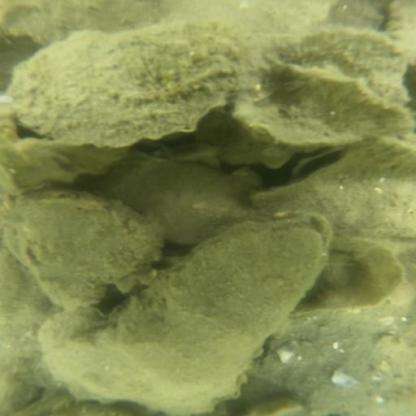Oyster- Indeterminate: (87, 216, 338, 409)
Oyster-Closed: (0, 18, 303, 153), (36, 306, 220, 416), (7, 191, 162, 305), (257, 141, 411, 254), (101, 158, 249, 244), (299, 25, 413, 109)
